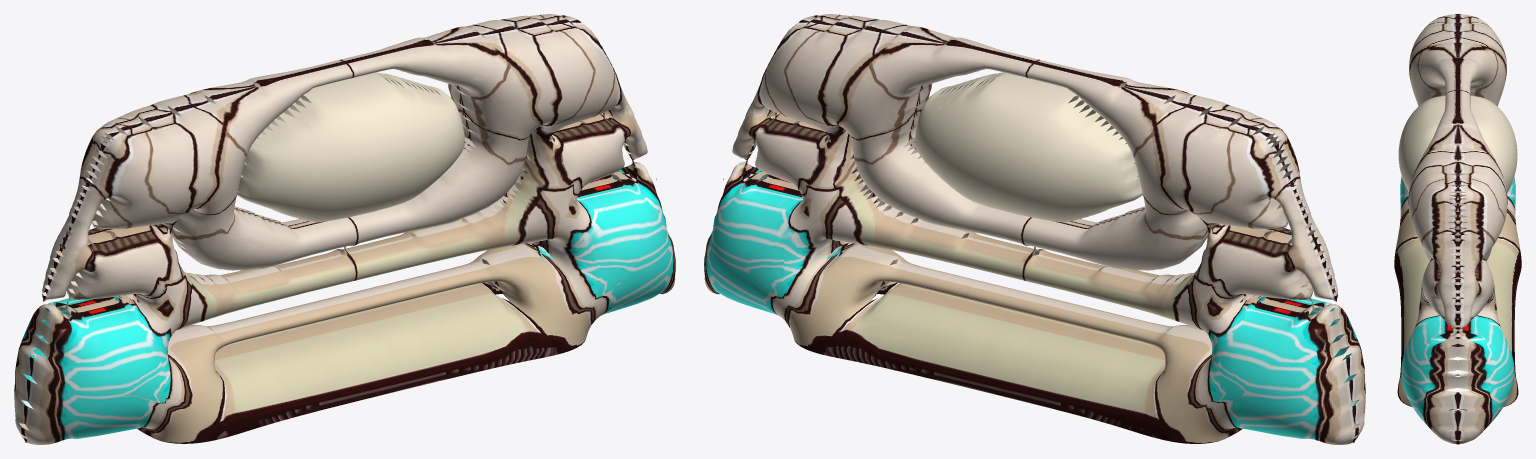
The model's file is display_platform.glb.
3 renders of one model, left to right at view 1: azimuth 30°, elevation 25°; view 2: azimuth 150°, elevation 25°; view 3: azimuth 270°, elevation 25°, orthographic. The views are drawn at different scales.
Visible parts, largest first — view 1: display_platform; view 2: display_platform; view 3: display_platform.
Boxes of the visible parts, x1,y1,x2,y2 form: display_platform: (14, 14, 675, 444); display_platform: (704, 14, 1365, 444); display_platform: (1394, 14, 1521, 444).
Bounding box in the file's own units: 0.9888 × 0.449 × 0.2191.
1 material, 1 textured.
